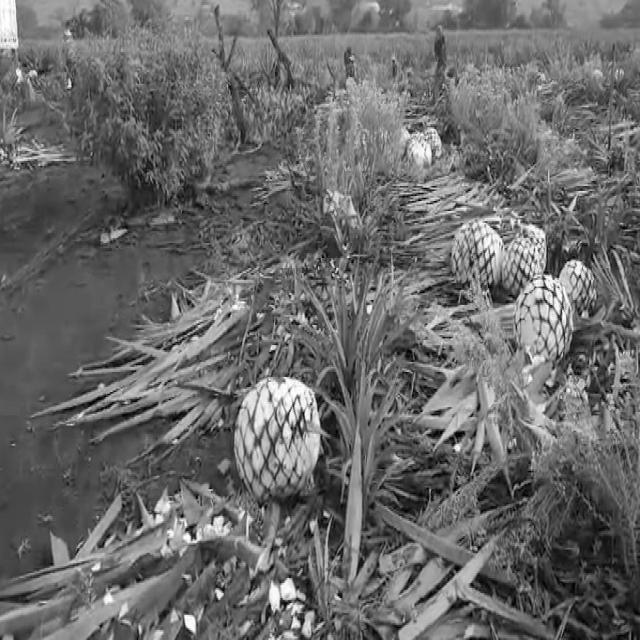agave: (227, 377, 327, 498), (510, 267, 571, 366), (501, 216, 546, 304), (452, 216, 503, 293), (561, 257, 600, 315), (419, 132, 434, 172), (425, 128, 442, 161), (408, 140, 422, 168)
